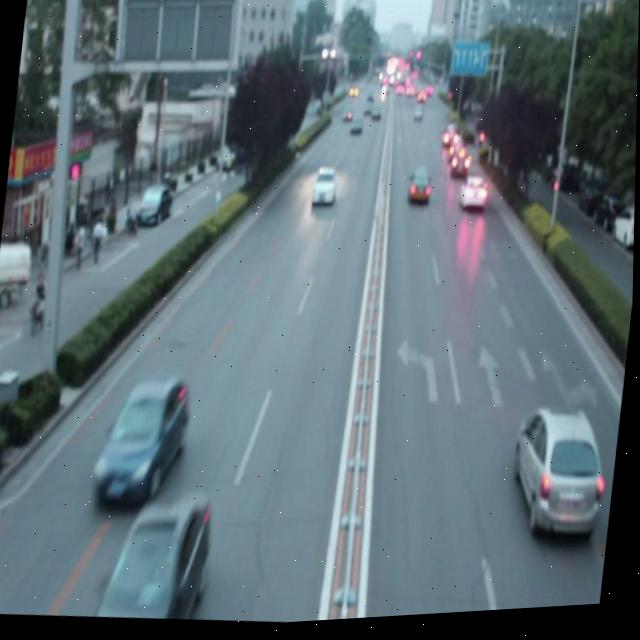car: (92, 489, 211, 627), (506, 403, 612, 549), (91, 376, 195, 513), (309, 168, 338, 213), (406, 168, 434, 209), (458, 179, 489, 216)
